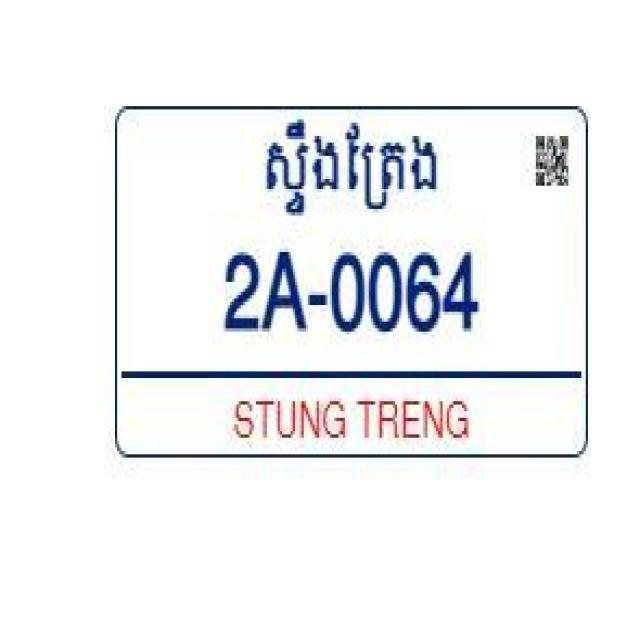Stung_Treng: (263, 113, 440, 218)
